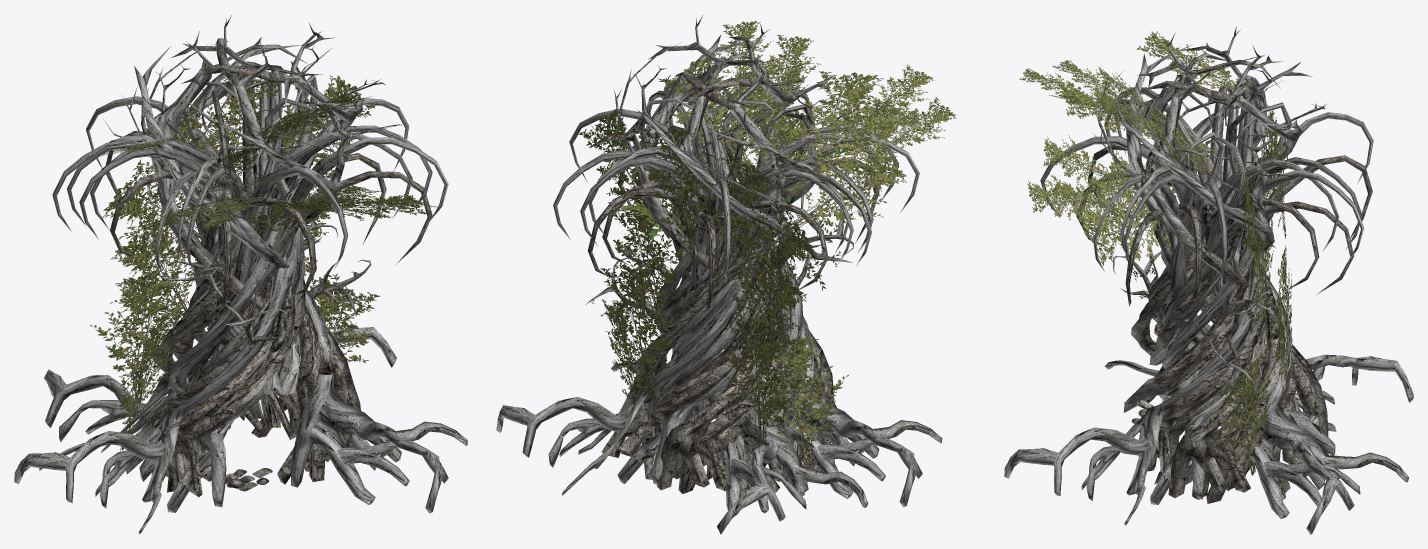
The picture shows the model from 3 angles, left to right: view 1: azimuth 30°, elevation 25°; view 2: azimuth 150°, elevation 25°; view 3: azimuth 270°, elevation 25°; orthographic projection. The views are drawn at different scales.
Visible parts, largest first — view 1: Material_#122, Material_#128; view 2: Material_#122, Material_#128, Material_#130; view 3: Material_#122, Material_#128.
Boxes of the visible parts, x1,y1,x2,y2 form: Material_#122: [14, 15, 467, 534]; Material_#128: [90, 75, 438, 450]; Material_#122: [496, 15, 942, 534]; Material_#128: [578, 20, 956, 469]; Material_#130: [614, 177, 688, 241]; Material_#122: [1004, 26, 1413, 534]; Material_#128: [1019, 31, 1291, 475].
Bounding box in the file's own units: 15.11 × 16.16 × 13.84.
